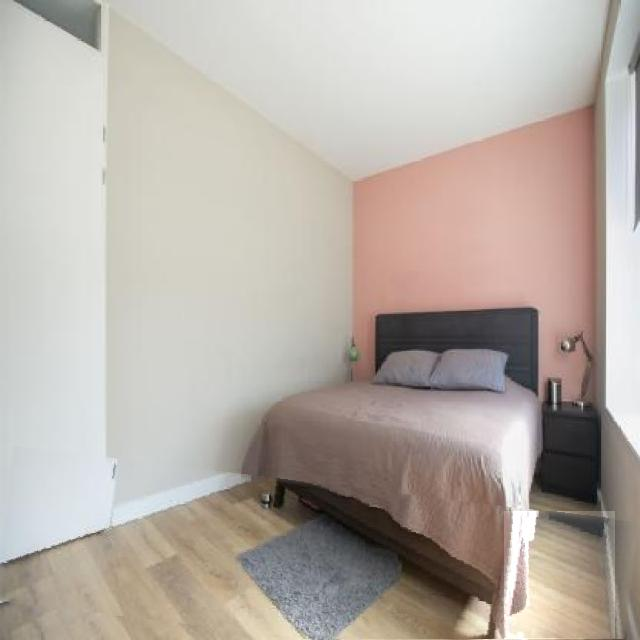floor: (0, 479, 489, 640), (505, 512, 615, 639), (493, 630, 501, 640)
